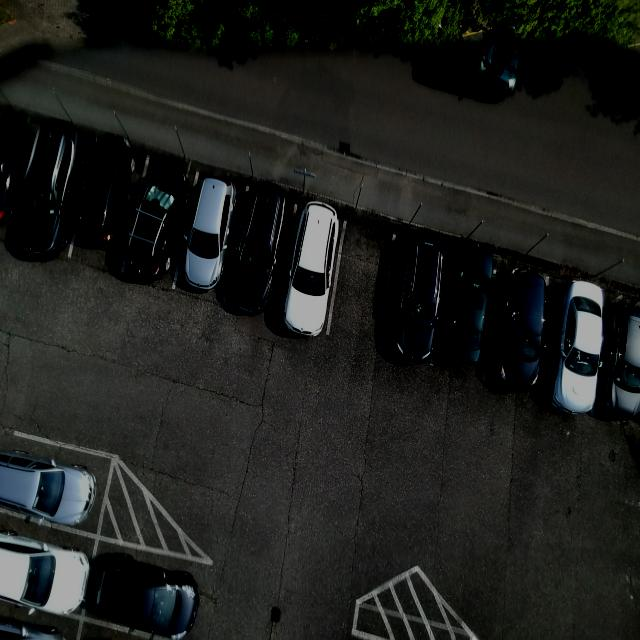car: (94, 550, 202, 640), (128, 162, 189, 304), (284, 201, 340, 355), (15, 121, 73, 266), (233, 179, 284, 329), (553, 274, 604, 423), (394, 231, 447, 373), (77, 131, 137, 252), (500, 267, 549, 403), (185, 171, 233, 309), (451, 241, 494, 372)
free_space: (325, 216, 398, 366)
